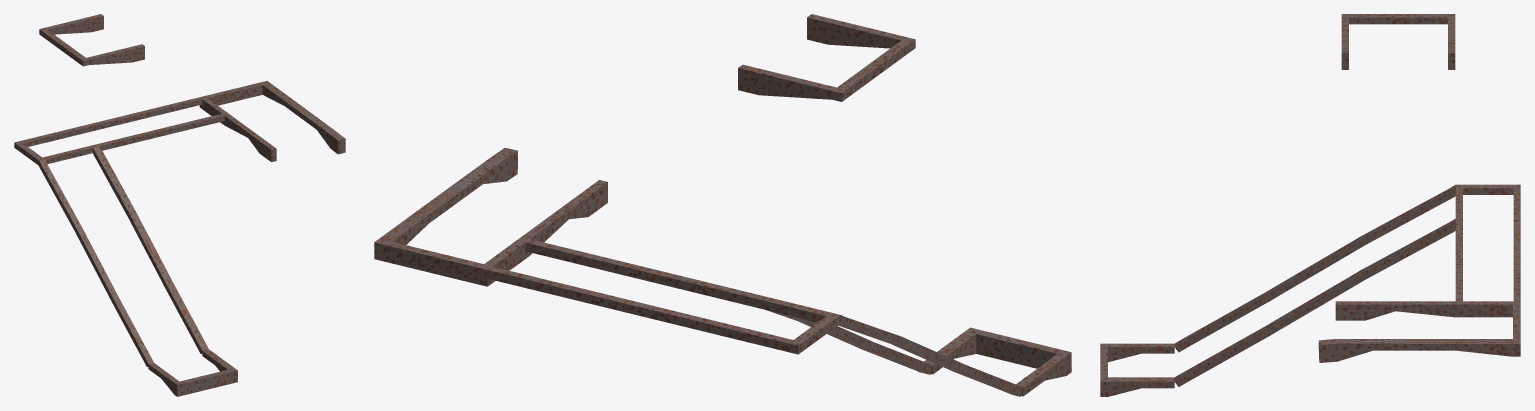
Rendered from SM_NeoLD_12_Metal_00.fbx.
3 renders of one model, left to right at view 1: azimuth 30°, elevation 25°; view 2: azimuth 150°, elevation 25°; view 3: azimuth 270°, elevation 25°, orthographic. The views are drawn at different scales.
Visible parts, largest first — view 1: SM_NeoLD_12_Metal_00; view 2: SM_NeoLD_12_Metal_00; view 3: SM_NeoLD_12_Metal_00.
Part boxes in pixels (x1,y1,x2,y2): SM_NeoLD_12_Metal_00: (14,14,345,396); SM_NeoLD_12_Metal_00: (374,14,1071,396); SM_NeoLD_12_Metal_00: (1100,14,1520,396).
Bounding box in the file's own units: 1462 × 1471 × 1627.
